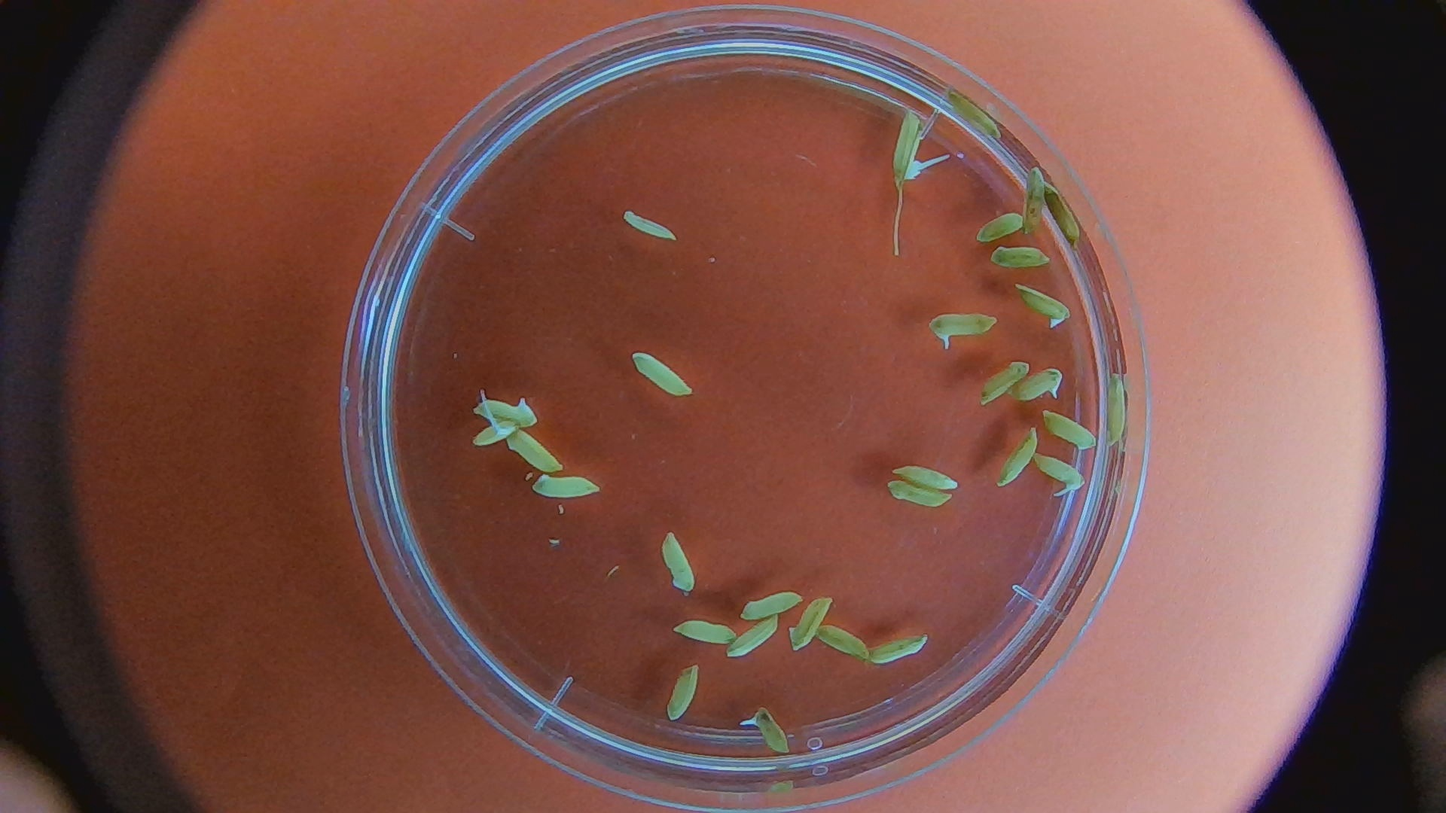no: (1007, 282, 1078, 331), (627, 352, 694, 401), (946, 88, 1004, 142), (725, 611, 782, 664), (993, 426, 1040, 487), (788, 588, 831, 653), (1042, 178, 1083, 246), (505, 425, 563, 473), (1040, 406, 1097, 452), (976, 358, 1033, 402), (866, 631, 928, 671), (662, 663, 700, 724), (660, 528, 694, 595), (468, 397, 541, 428), (883, 478, 953, 510), (889, 462, 961, 492), (812, 624, 868, 662), (530, 469, 596, 498), (1018, 165, 1046, 233), (670, 617, 738, 645), (988, 242, 1054, 269), (1104, 372, 1125, 448), (742, 591, 802, 617), (973, 211, 1026, 240)
yes: (887, 109, 926, 182), (929, 310, 996, 346), (1030, 452, 1085, 491), (1009, 368, 1063, 402), (752, 708, 787, 757), (471, 414, 517, 447)
